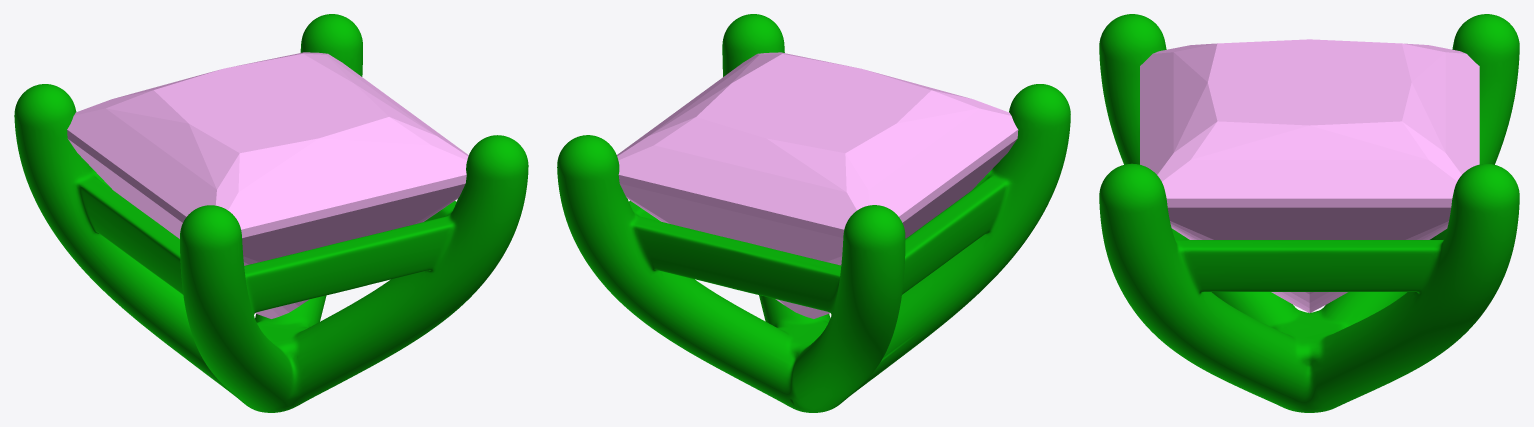
3 views of the same model, side by side, from view 1: azimuth 30°, elevation 25°; view 2: azimuth 150°, elevation 25°; view 3: azimuth 270°, elevation 25° (orthographic). The views are drawn at different scales.
Parts seen in each view (by area): view 1: Metal01, Diamond_Princess; view 2: Metal01, Diamond_Princess; view 3: Metal01, Diamond_Princess.
Boxes of the visible parts, left/top/right/bottom form: Metal01: left=14, top=14, right=528, bottom=412; Diamond_Princess: left=67, top=52, right=468, bottom=318; Metal01: left=557, top=14, right=1070, bottom=412; Diamond_Princess: left=617, top=52, right=1018, bottom=318; Metal01: left=1099, top=14, right=1519, bottom=412; Diamond_Princess: left=1140, top=39, right=1479, bottom=313.
Size of the model in its own units: 8.6 by 7.29 by 8.6.
